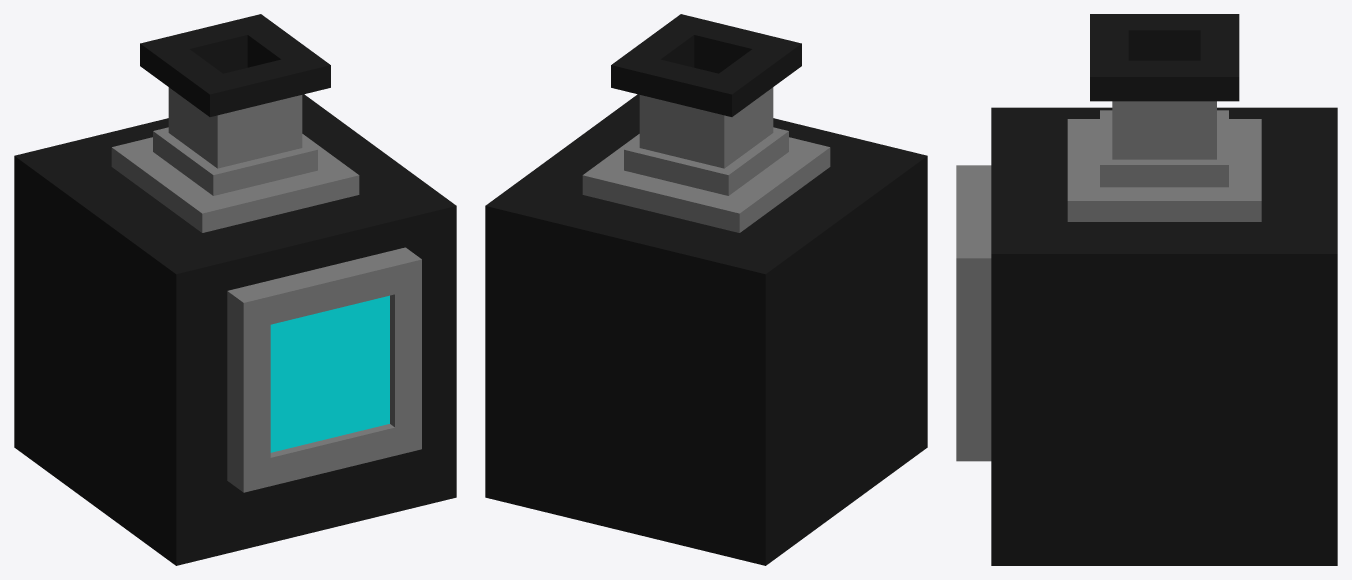
The model's file is Furnace.fbx.
The picture shows the model from 3 angles, left to right: view 1: azimuth 30°, elevation 25°; view 2: azimuth 150°, elevation 25°; view 3: azimuth 270°, elevation 25°; orthographic projection. The views are drawn at different scales.
Visible parts, largest first — view 1: Furnace, FurnaceDoor; view 2: Furnace; view 3: Furnace, FurnaceDoor.
Boxes of the visible parts, bbox=[...] form: Furnace: bbox=[14, 14, 456, 565]; FurnaceDoor: bbox=[227, 247, 421, 492]; Furnace: bbox=[485, 14, 927, 565]; Furnace: bbox=[991, 14, 1337, 565]; FurnaceDoor: bbox=[956, 165, 991, 461].
Size of the model in its own units: 70 by 99.74 by 77.12.
